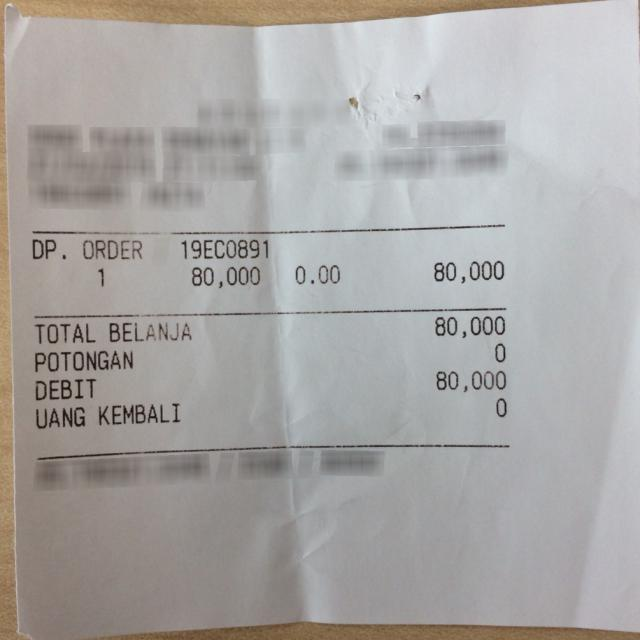text: (34, 351, 131, 372), (97, 401, 178, 425), (108, 320, 190, 341), (432, 260, 502, 284), (190, 264, 258, 288), (180, 238, 266, 256), (434, 316, 503, 336), (436, 370, 504, 390), (33, 321, 94, 343), (33, 378, 94, 399), (35, 405, 84, 428), (83, 240, 140, 258), (294, 264, 339, 282), (30, 238, 64, 260), (492, 341, 507, 361), (493, 396, 508, 416), (97, 265, 105, 288)
